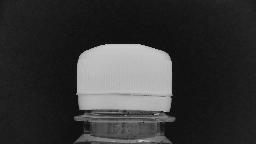Broken Cap: (72, 40, 178, 126)
